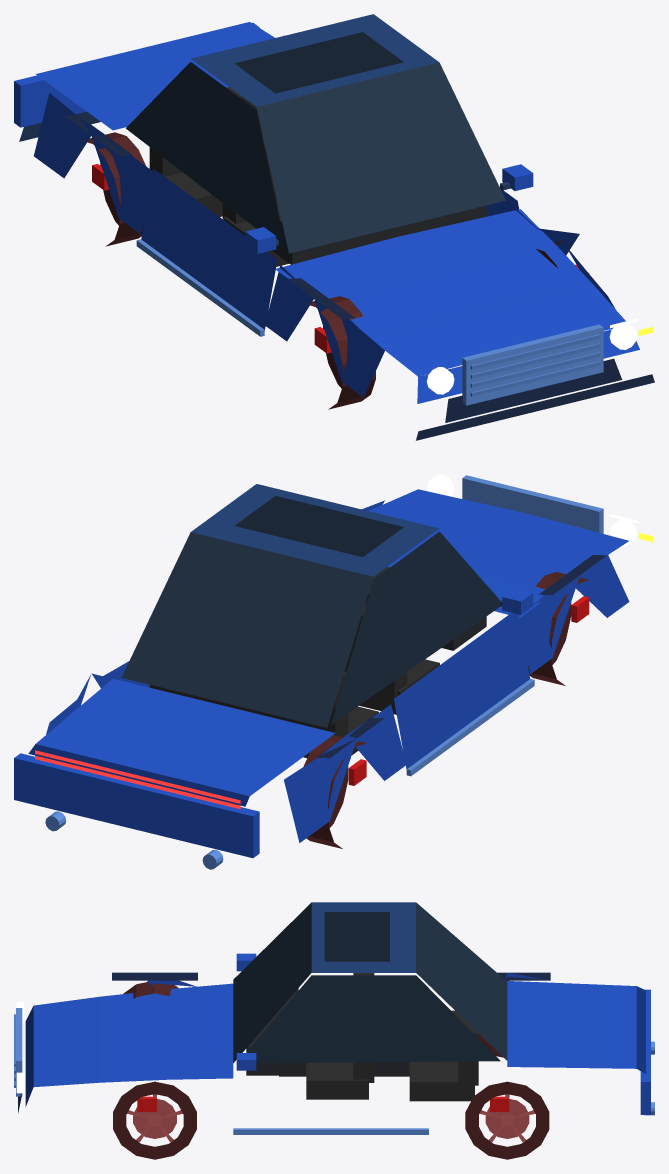
Rendered from executive_sedan_lod1.glb.
The picture shows the model from 3 angles, top to bottom: view 1: azimuth 30°, elevation 25°; view 2: azimuth 150°, elevation 25°; view 3: azimuth 270°, elevation 25°; orthographic projection. The views are drawn at different scales.
Visible parts, largest first — view 1: Chassis, Glass, Interior, Wheel_FL, Wheel_RL, Headlights; view 2: Chassis, Glass, Interior, BrakeLights, Wheel_FL, Wheel_RL, Headlights; view 3: Glass, Chassis, Interior, Wheel_RR, Wheel_FR, Wheel_FL.
Boxes of the visible parts, x1,y1,x2,y2 form: Chassis: (14, 22, 654, 440); Glass: (126, 14, 505, 253); Interior: (149, 87, 486, 266); Wheel_FL: (304, 296, 375, 409); Wheel_RL: (81, 132, 145, 246); Headlights: (426, 318, 638, 394); Chassis: (14, 475, 629, 869); Glass: (121, 484, 500, 727); Interior: (149, 566, 486, 757); BrakeLights: (35, 750, 240, 809); Wheel_FL: (527, 572, 589, 685); Wheel_RL: (303, 735, 366, 848); Headlights: (426, 474, 638, 546); Glass: (233, 902, 507, 1063); Chassis: (14, 953, 654, 1134); Interior: (246, 973, 478, 1101); Wheel_RR: (465, 1081, 549, 1159); Wheel_FR: (113, 1081, 196, 1159); Wheel_FL: (123, 982, 178, 998).
Size of the model in its own units: 1.93 by 1.46 by 4.91.
